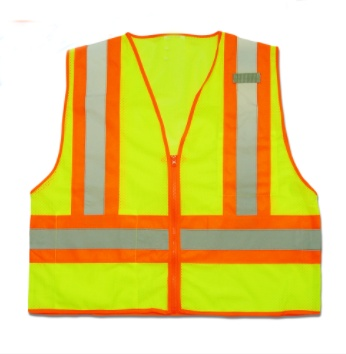safety vest: (28, 30, 322, 320)
